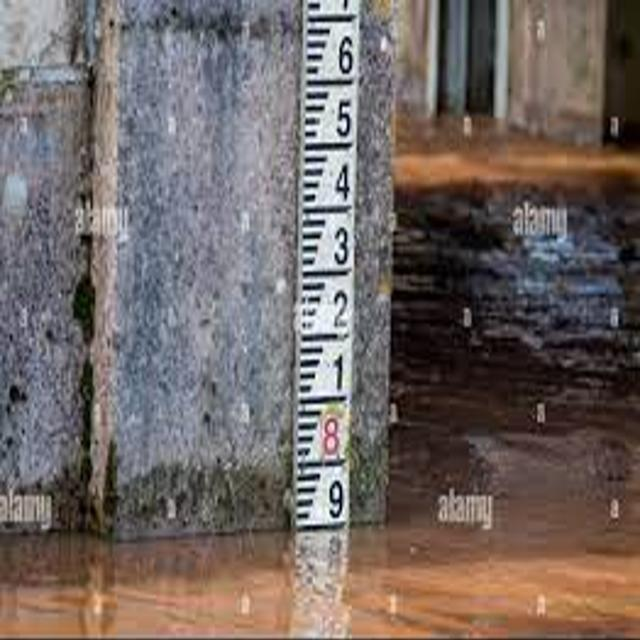ruler: (270, 0, 375, 544)
value: (325, 277, 356, 343), (328, 22, 363, 80), (318, 472, 352, 528), (322, 342, 354, 401), (315, 409, 349, 464), (327, 84, 358, 144), (327, 156, 358, 210), (325, 220, 357, 268)
